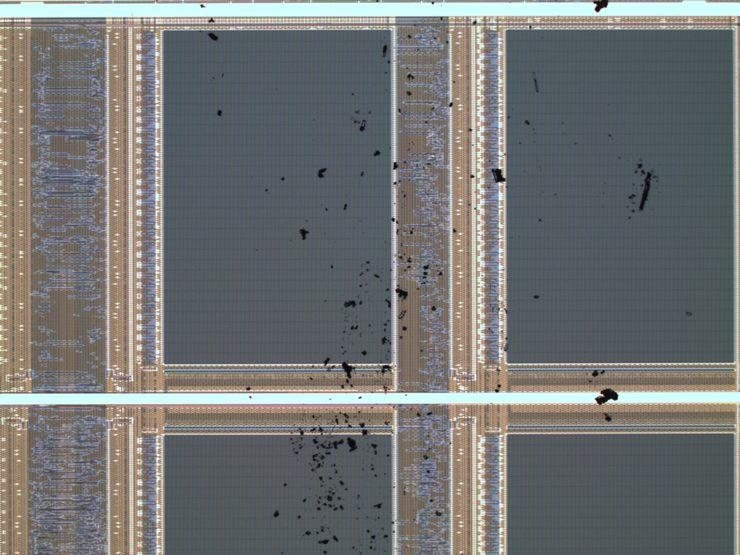PO CONTAMINATION: (210, 1, 697, 555)
